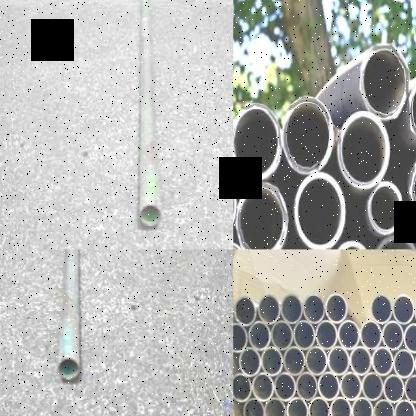pipe: (338, 112, 390, 190), (282, 96, 334, 173), (294, 172, 345, 249), (233, 103, 282, 181), (360, 44, 408, 119), (235, 182, 288, 249), (367, 182, 403, 235), (302, 293, 326, 324), (283, 345, 306, 377), (324, 293, 348, 323), (280, 293, 303, 324), (235, 295, 258, 326), (315, 319, 338, 350), (293, 319, 316, 350), (271, 319, 294, 350), (248, 320, 271, 351), (305, 345, 328, 376), (258, 293, 280, 325), (382, 319, 404, 351), (261, 345, 283, 377), (372, 345, 394, 377), (240, 346, 262, 378), (370, 293, 392, 324), (392, 294, 414, 325), (338, 319, 360, 350), (360, 319, 382, 350), (328, 345, 350, 376), (350, 345, 372, 376), (318, 371, 340, 401), (340, 371, 362, 401), (296, 371, 318, 401), (252, 372, 274, 402), (383, 373, 405, 403), (393, 348, 415, 378), (362, 372, 384, 401), (274, 372, 296, 401), (408, 70, 416, 148), (234, 371, 252, 402), (140, 204, 161, 228), (58, 358, 79, 381), (330, 396, 352, 416), (308, 396, 330, 416), (286, 396, 308, 416), (234, 322, 249, 351), (264, 397, 286, 416), (352, 396, 372, 416), (403, 322, 416, 352), (244, 397, 264, 416), (372, 398, 393, 416), (404, 373, 416, 403), (394, 399, 415, 416), (414, 348, 416, 379), (414, 296, 416, 326)
